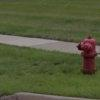Hydrant: (72, 28, 100, 90)
